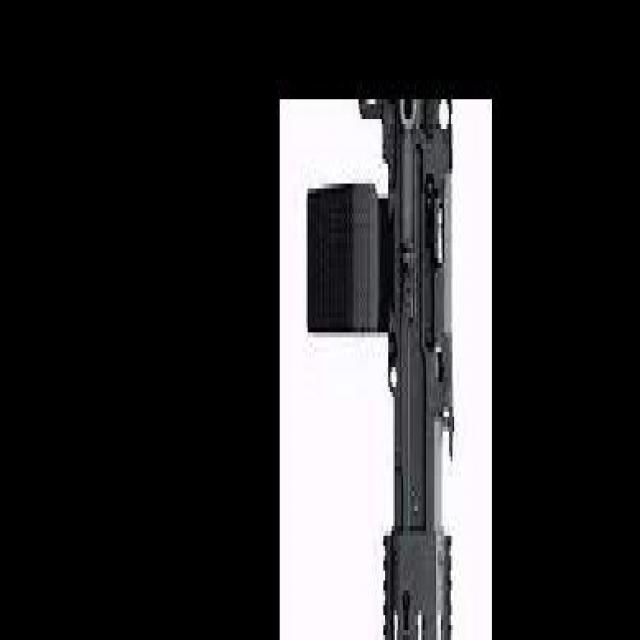weapon: (305, 99, 457, 640)
